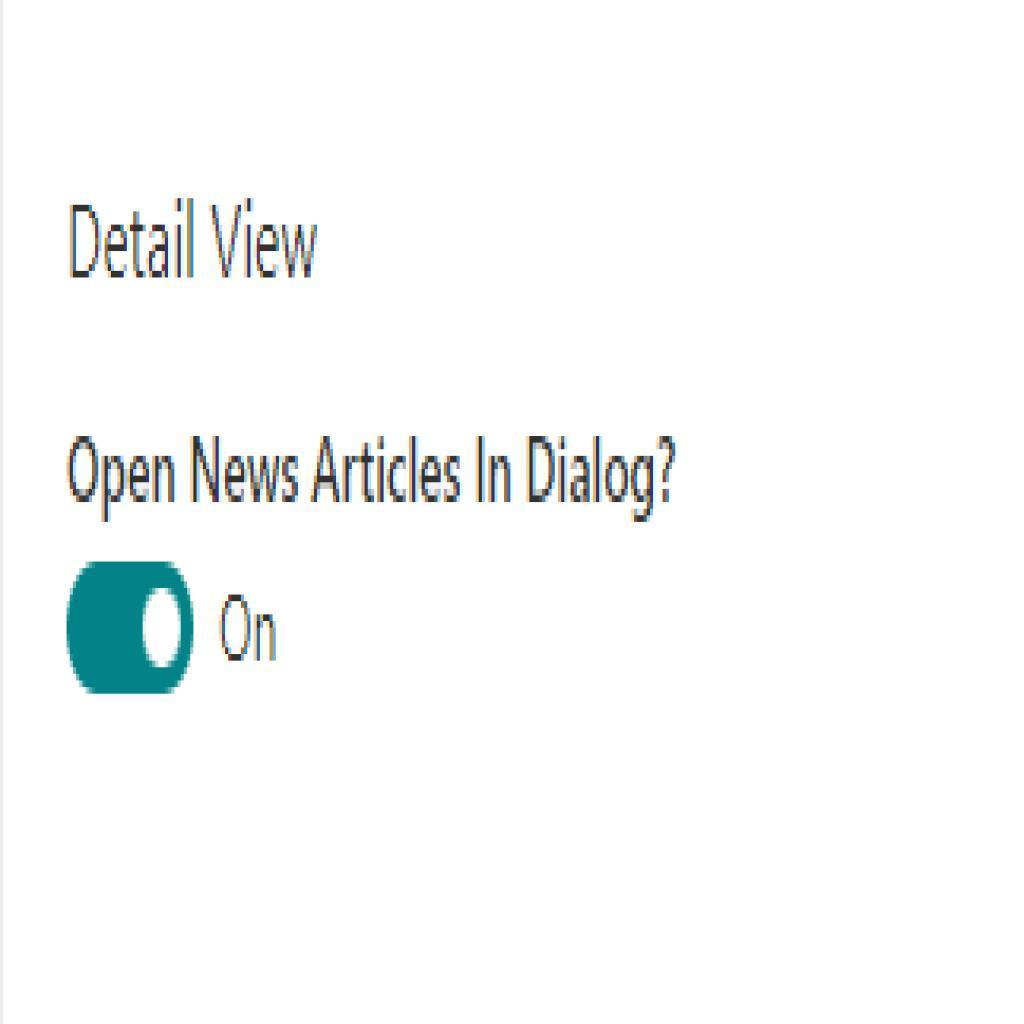switch: (62, 560, 201, 700)
